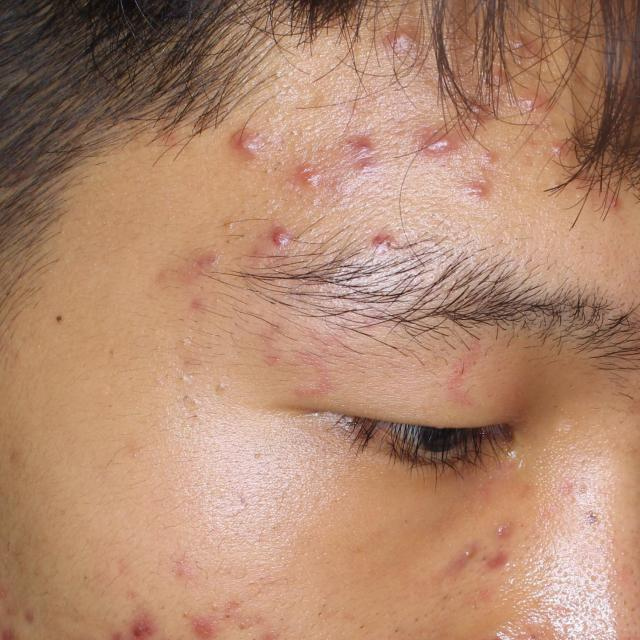nodule: (412, 121, 464, 160), (228, 128, 269, 163)
